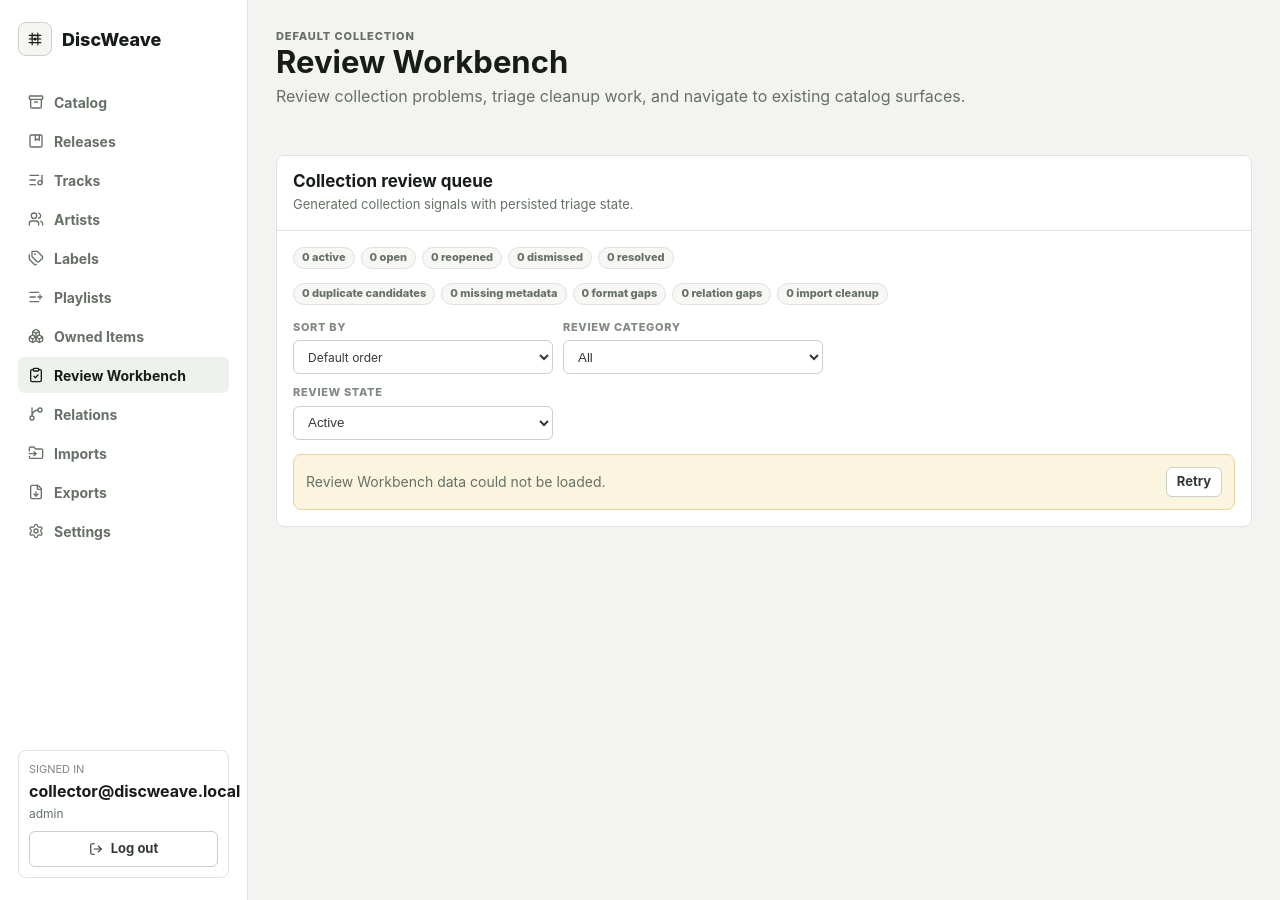
Test: Review Workbench workspace › shows a retryable error panel and rejects leaked collection ids
Expected: the message shows "Review Workbench data could not be loaded.", [306,474,606,490]
Click the button "Retry" at (1194, 482), box [1166,467,1222,497]
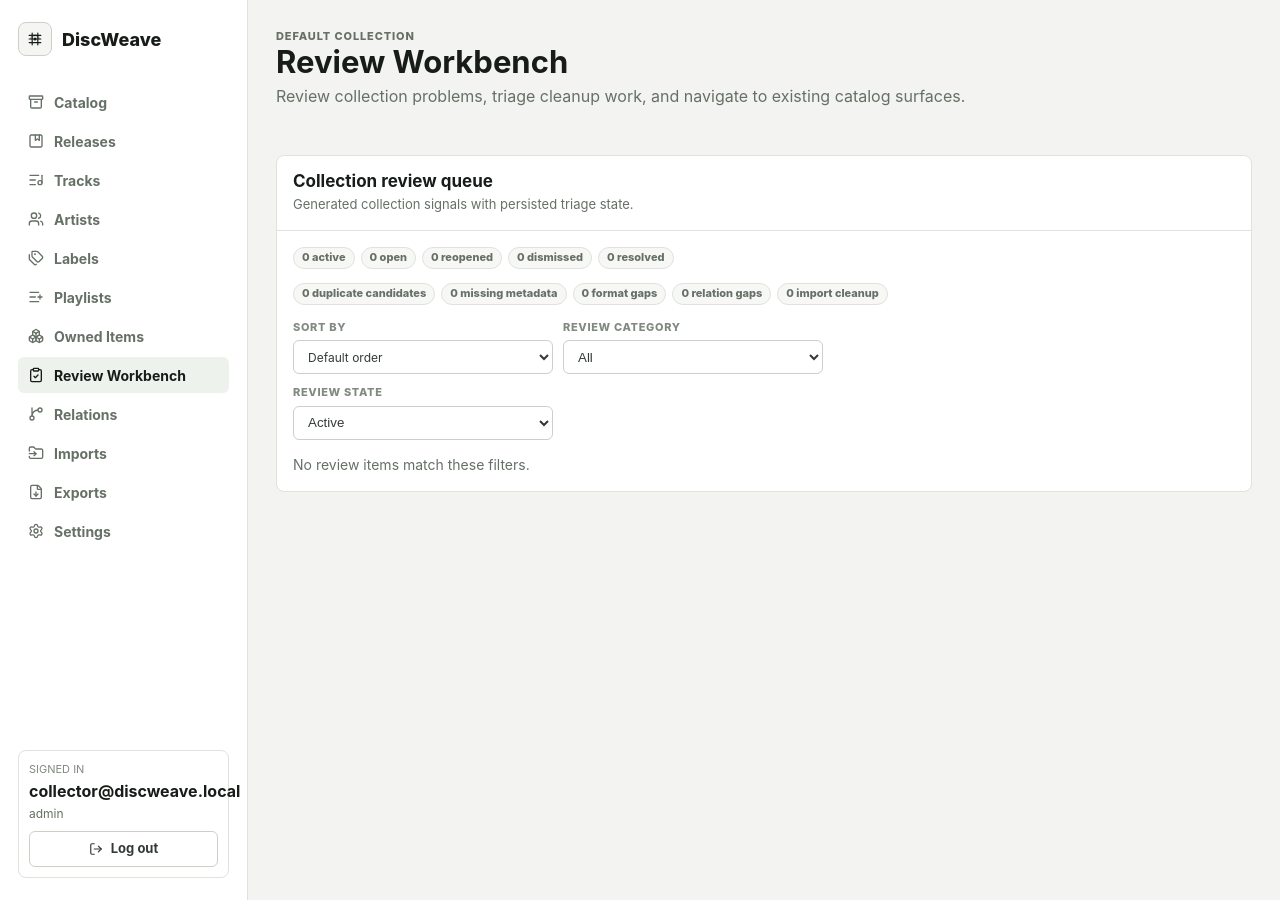
Expected: the text "No review items match these filters." is shown, [293,456,530,473]
